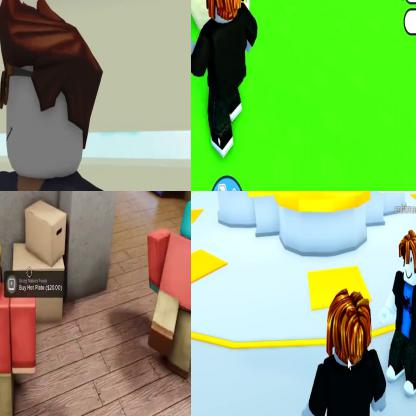Roblox-Avatar: (1, 1, 185, 191), (301, 288, 388, 416), (192, 1, 259, 161), (148, 200, 191, 381), (1, 226, 37, 416), (379, 231, 416, 401)
